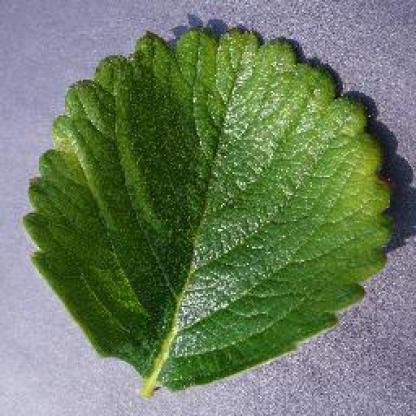healthy: (17, 19, 404, 406)
